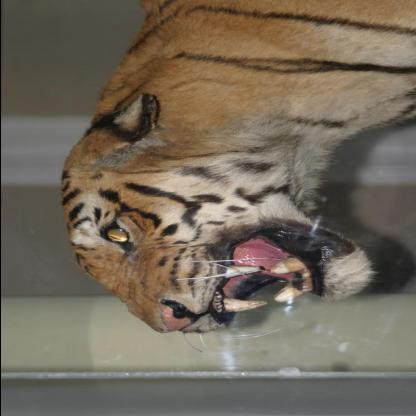tiger: (48, 99, 392, 346)
